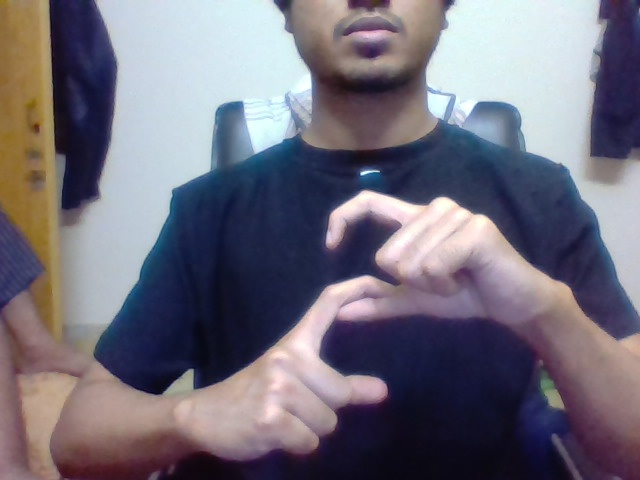S: (321, 187, 410, 406)
